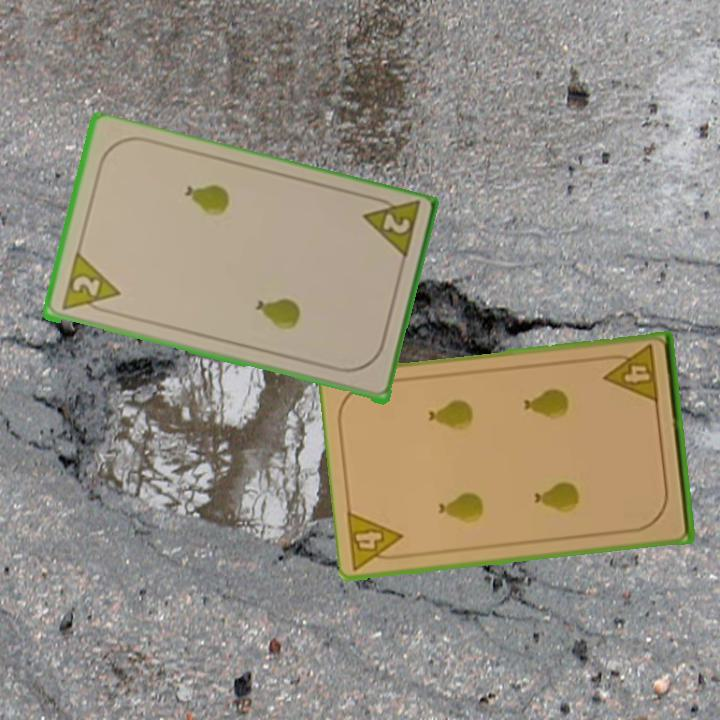2p: (57, 252, 122, 316), (378, 210, 413, 237)
4p: (344, 507, 410, 573), (600, 342, 662, 407)
